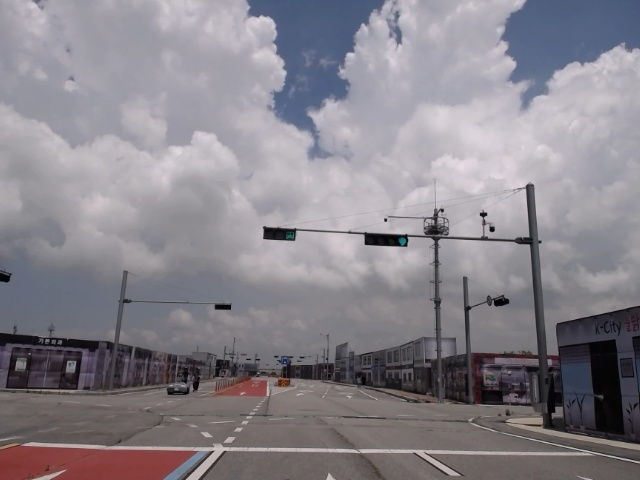straight_green_4: (365, 233, 409, 247)
